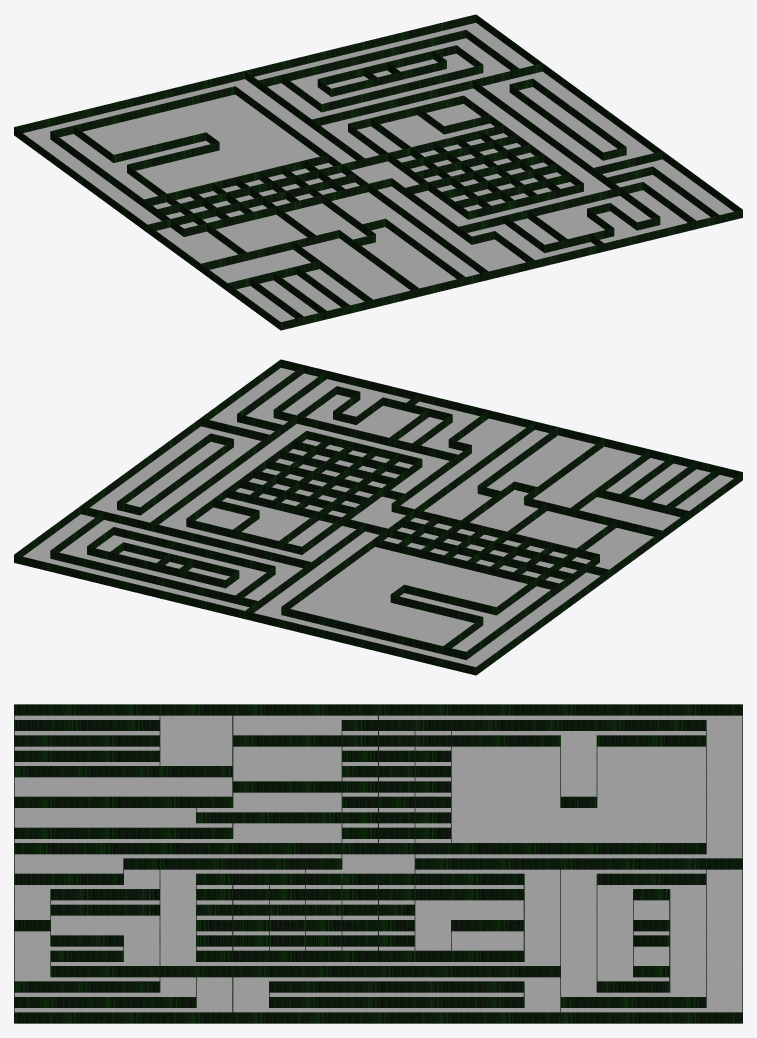
The model's file is map.fbx.
3 views of the same model, one above another, from view 1: azimuth 30°, elevation 25°; view 2: azimuth 150°, elevation 25°; view 3: azimuth 270°, elevation 25° (orthographic). The views are drawn at different scales.
Visible parts, largest first — view 1: pCube3; view 2: pCube3; view 3: pCube3.
Part boxes in pixels (left/top/right/bottom): pCube3: left=14, top=14, right=742, bottom=330; pCube3: left=14, top=359, right=742, bottom=675; pCube3: left=14, top=704, right=742, bottom=1023.
Size of the model in its own units: 240 by 4 by 240.
Materials: 2 (1 with a texture image).
